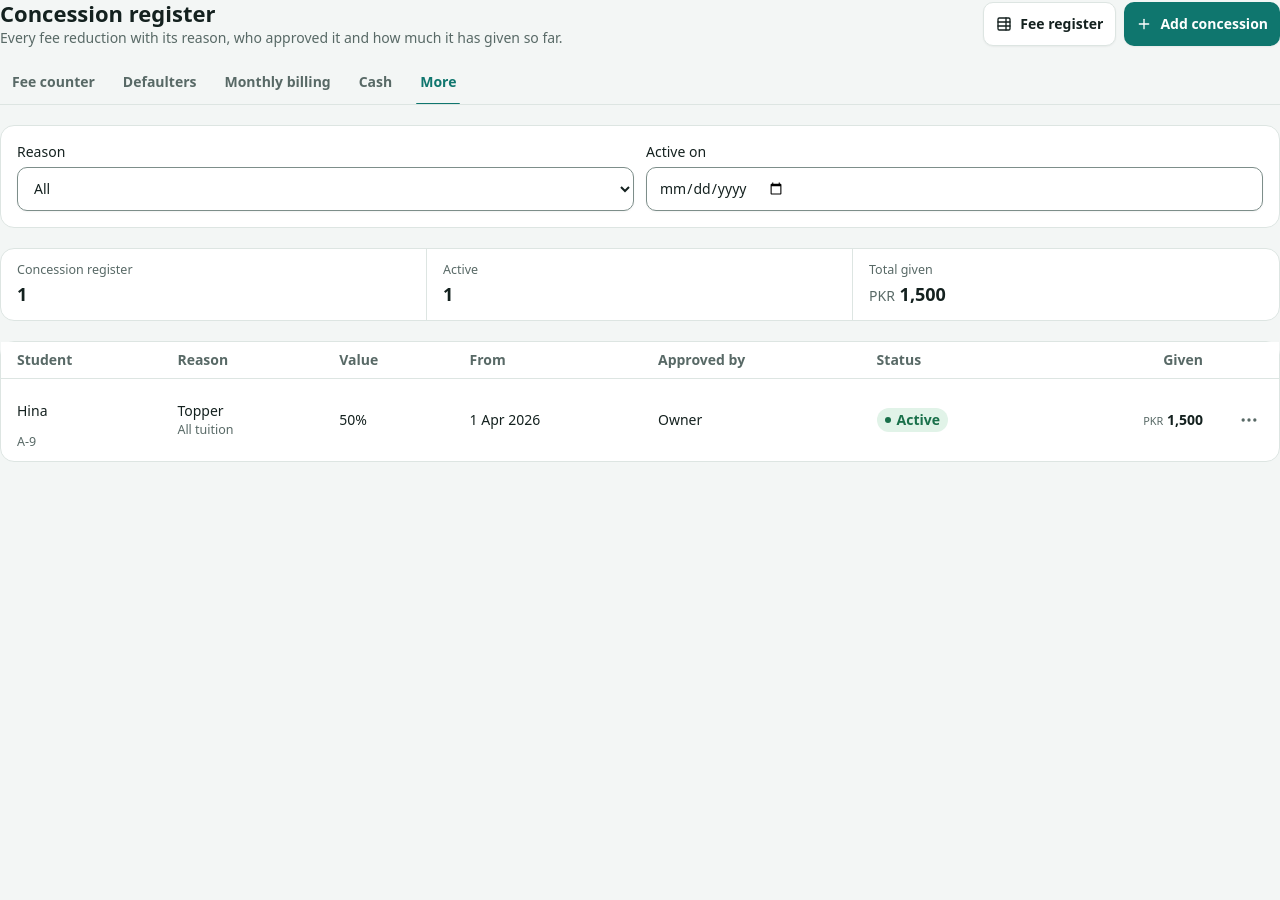
concessions (rebuilt) › End is the destructive item of the row menu and opens the end dialog
The width and height of the screenshot is (1280, 900).
Press Enter in the button named "More actions: Hina", box top-left (1227, 398), bottom-right (1271, 442)
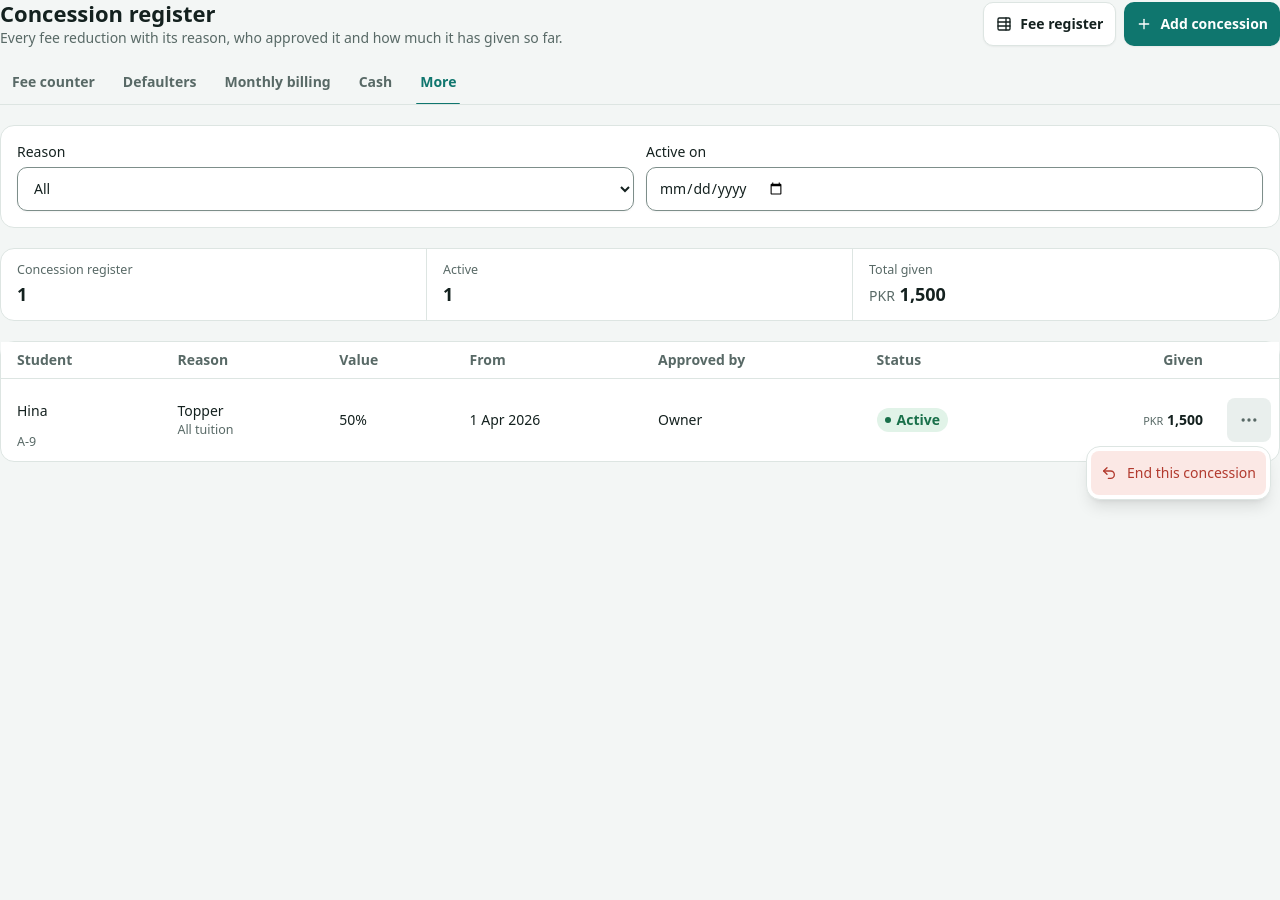
Click the menu item "End this concession": (1178,473) top-left (1091, 451), bottom-right (1266, 495)
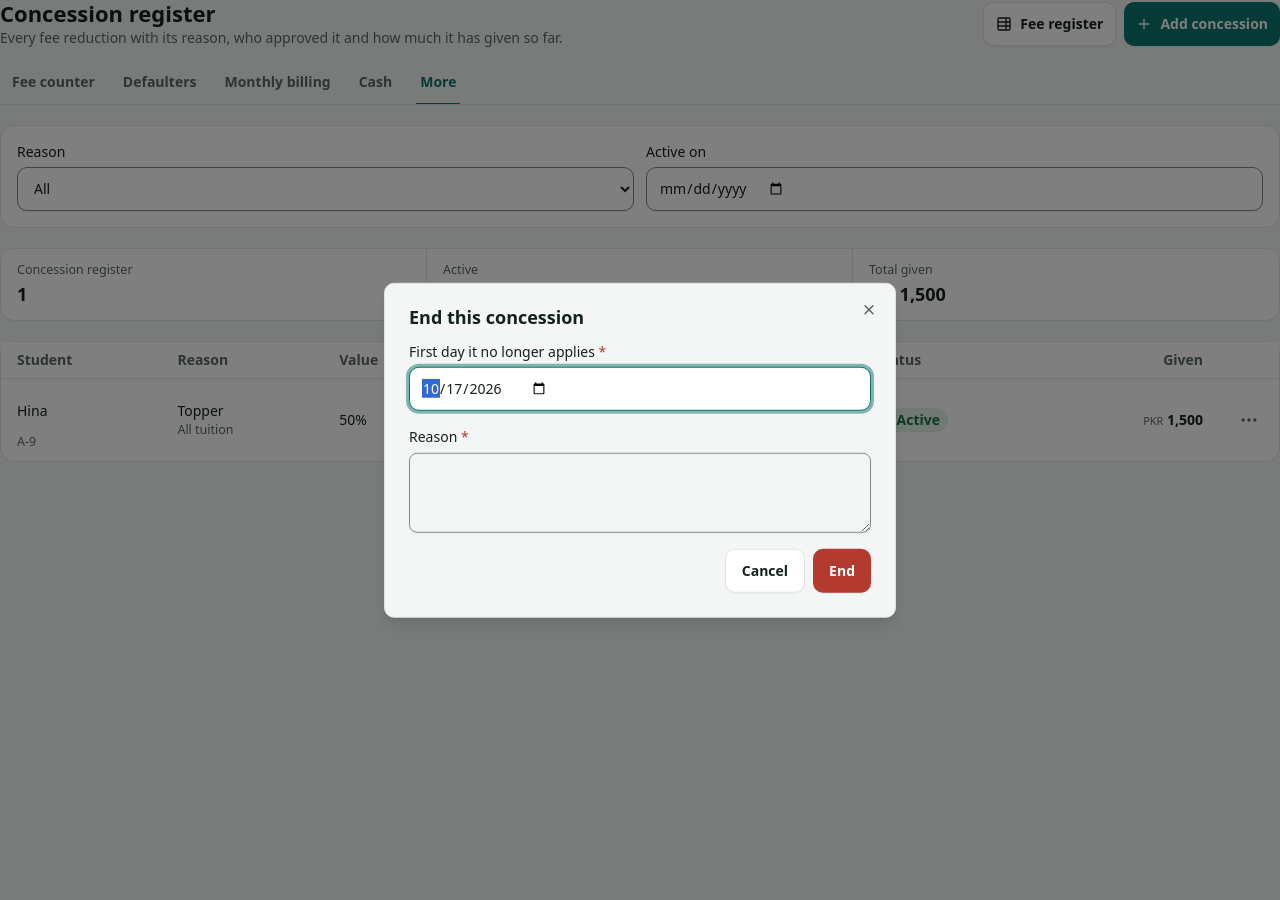
Expected: the element with id "con-given" shows "1,500", top-left (900, 282), bottom-right (946, 306)
Now the date field with id "concession-end-date" is shown, box top-left (409, 367), bottom-right (871, 411)
